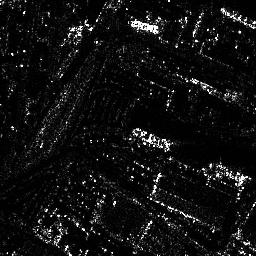ship: (130, 125, 172, 153), (206, 161, 249, 185), (222, 7, 256, 31)
